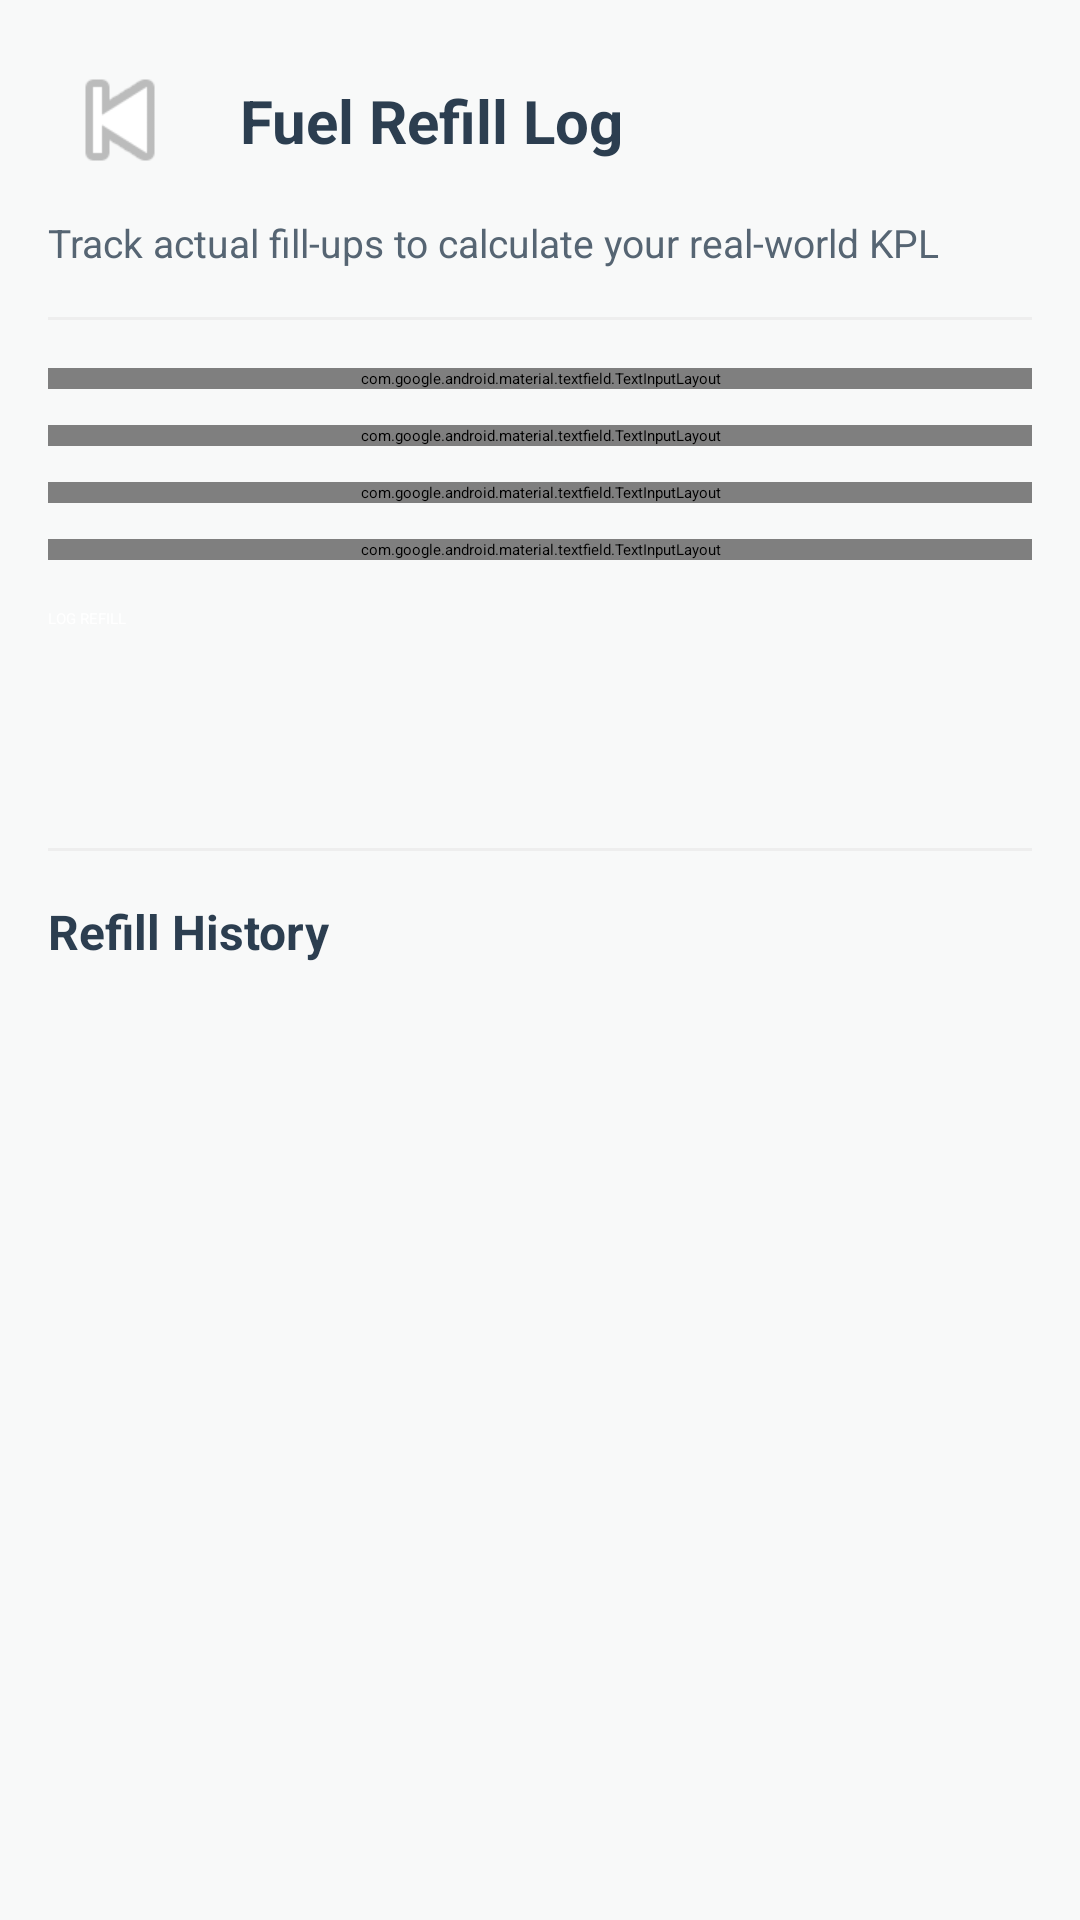

Screen size 1080×1920. Icon name, then its center in pixels as (x=x, y=y):
previous: (x=120, y=120)
